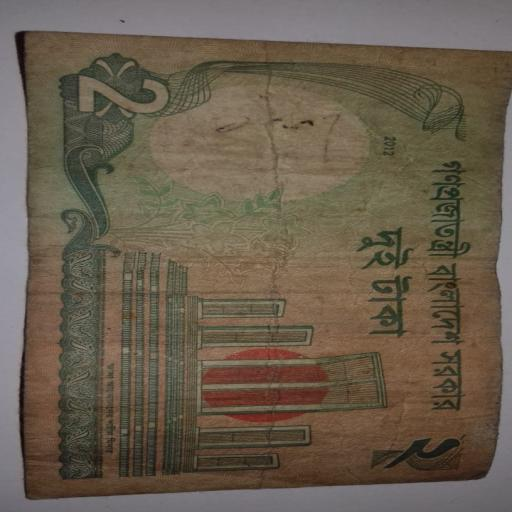2taka: (24, 32, 511, 498)
